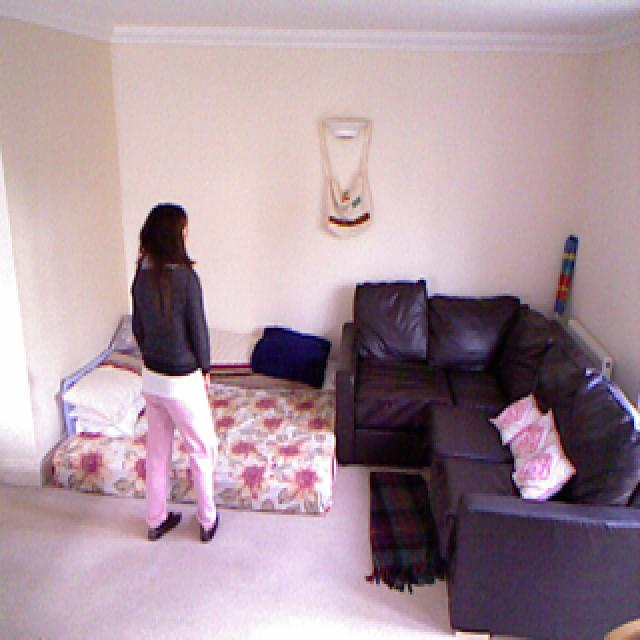standing: (131, 202, 220, 544)
